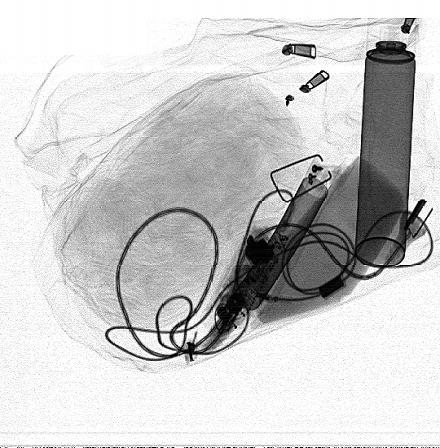Sprayer: (356, 17, 416, 268)
